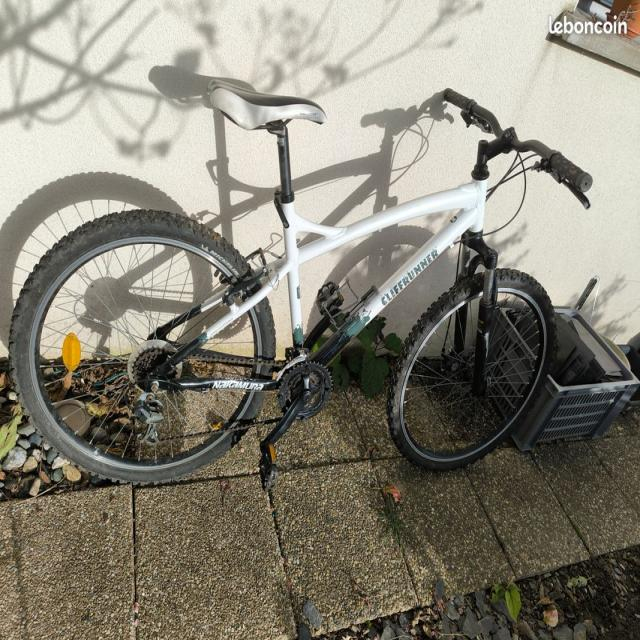Bike: (9, 80, 592, 492)
